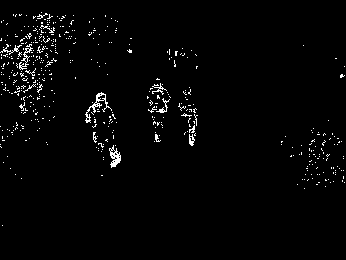person: (82, 91, 123, 173), (146, 76, 170, 145), (177, 85, 199, 145)
